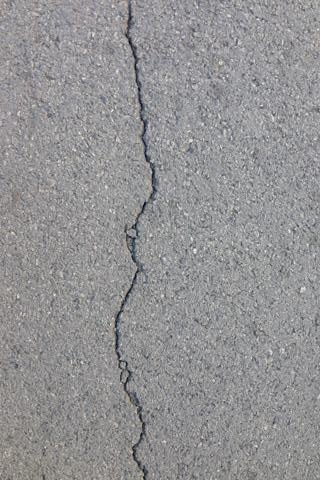A: (113, 1, 164, 480)
